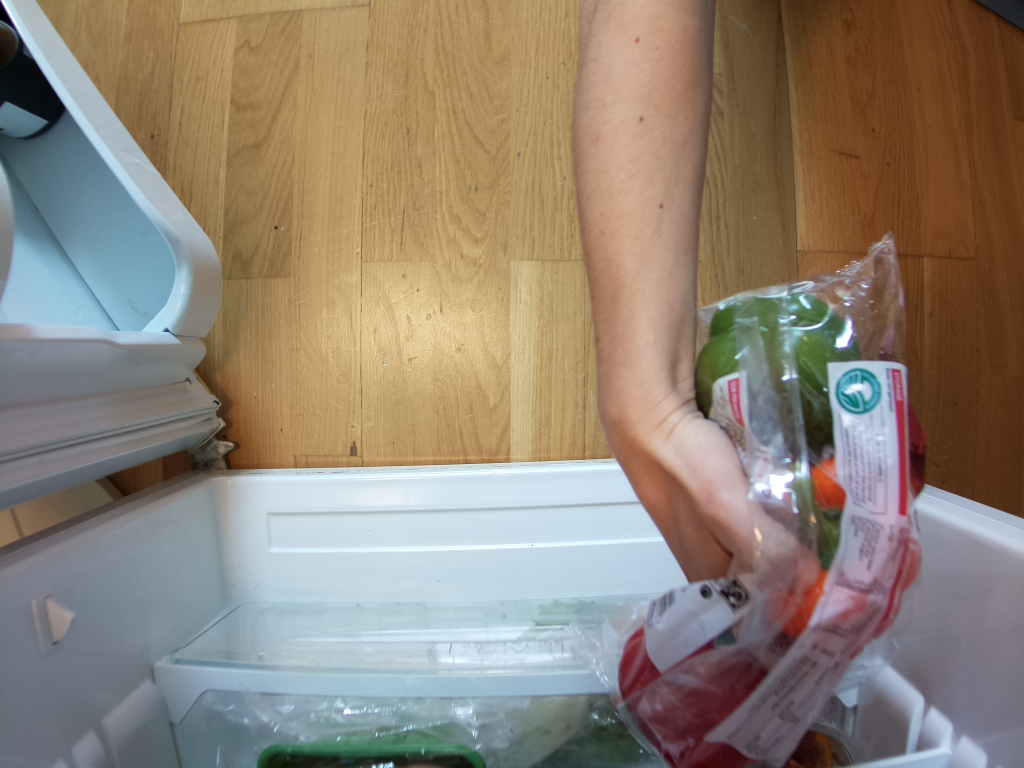pepper: (618, 614, 854, 768), (740, 456, 921, 646), (693, 292, 864, 453)
